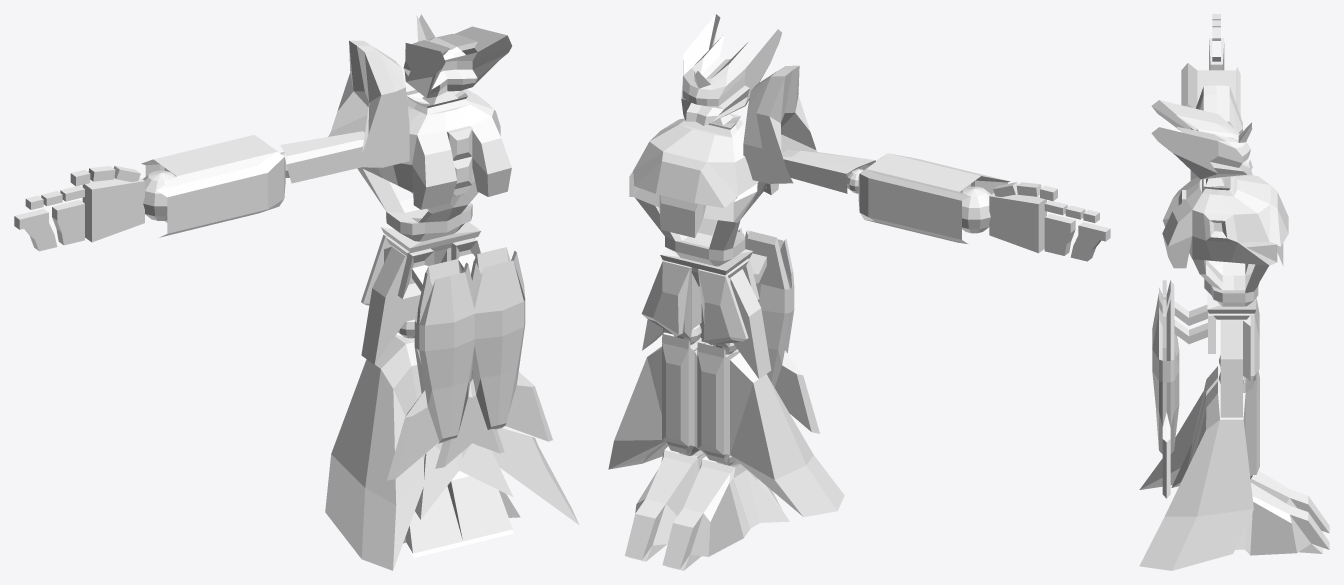
The model's file is somekindarobot.gltf.
3 renders of one model, left to right at view 1: azimuth 30°, elevation 25°; view 2: azimuth 150°, elevation 25°; view 3: azimuth 270°, elevation 25°, orthographic. The views are drawn at different scales.
Parts seen in each view (by area): view 1: cuboid (×11), Chestpiece, cuboid_selection (×3), Stomach, Larmupper, Hip connector, sphere; view 2: cuboid (×10), cuboid_selection (×3), Chestpiece, Stomach, LFlap, RFlap, Larmupper, sphere, Hip connector; view 3: cuboid (×12), Chestpiece, cuboid_selection (×2), Stomach, RFlap, Hip connector.
Boxes of the visible parts, <box> form: cuboid (×11): <box>52,14,579,570</box>; Chestpiece: <box>361,89,511,209</box>; cuboid_selection (×3): <box>14,208,520,557</box>; Stomach: <box>357,167,478,241</box>; Larmupper: <box>280,131,364,183</box>; Hip connector: <box>381,222,480,252</box>; sphere: <box>142,170,175,220</box>; cuboid (×10): <box>608,14,1075,517</box>; cuboid_selection (×3): <box>625,222,1110,570</box>; Chestpiece: <box>629,113,778,237</box>; Stomach: <box>635,187,766,266</box>; LFlap: <box>698,269,748,344</box>; RFlap: <box>641,260,692,336</box>; Larmupper: <box>782,150,875,193</box>; sphere: <box>960,186,990,233</box>; Hip connector: <box>660,249,753,275</box>; cuboid (×12): <box>1139,38,1259,570</box>; Chestpiece: <box>1162,175,1288,268</box>; cuboid_selection (×2): <box>1235,470,1329,555</box>; Stomach: <box>1193,259,1268,306</box>; RFlap: <box>1250,311,1259,377</box>; Hip connector: <box>1207,291,1256,313</box>.
Bounding box in the file's own units: 1.22 × 1.13 × 0.4564.
1 material, 1 textured.
